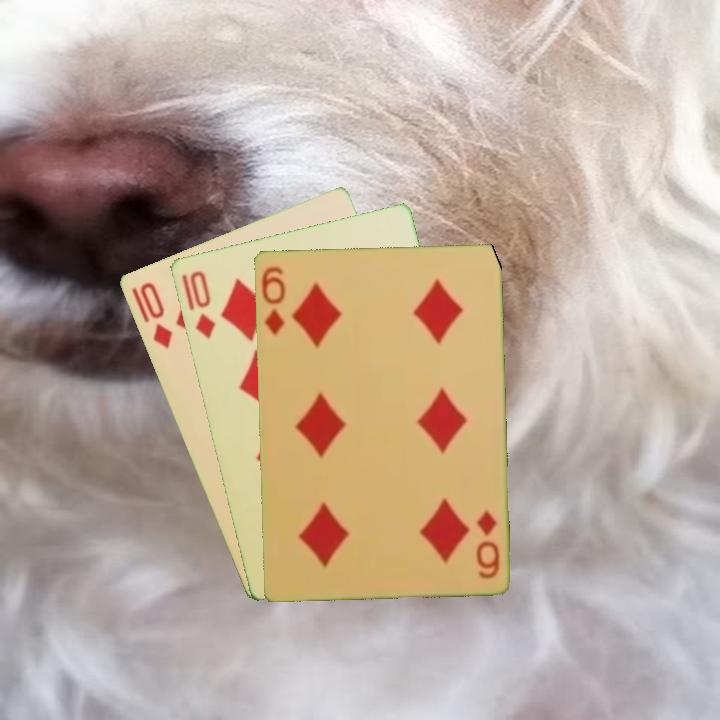10d: (136, 278, 175, 352), (185, 267, 218, 341)
6d: (257, 262, 288, 338), (472, 506, 502, 581)
